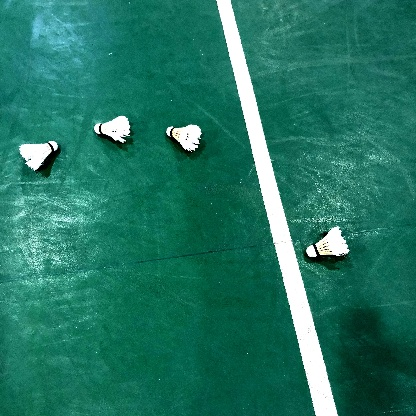ball_single: (306, 226, 350, 258), (19, 141, 58, 171), (166, 124, 202, 152), (94, 116, 131, 143)
